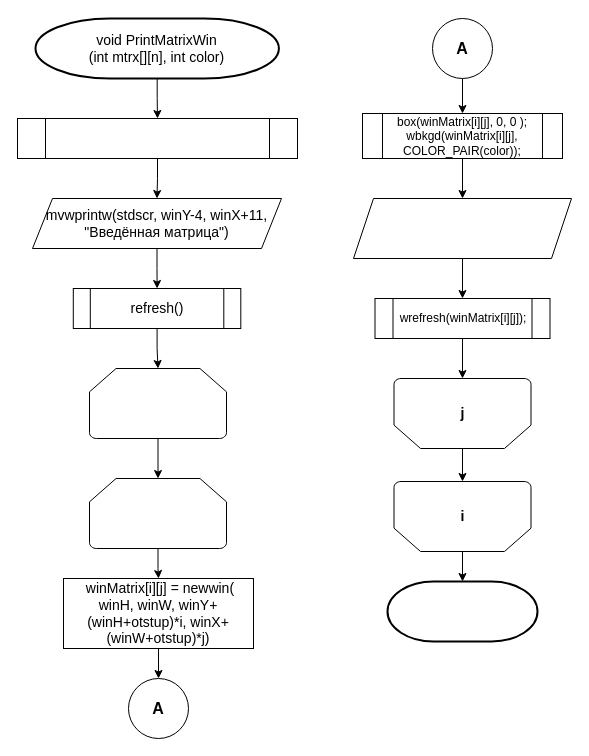
Image size: 589x756. Some labels were removed from this diagram. Each missing label, with the box of its shape:
ConfStdSrc(1); wattron(stdscr, COLOR_PAIR(2));: (16, 118, 298, 158)
i = 0; i < n; i++: (88, 368, 226, 438)
j = 0; j < n; j++: (88, 478, 226, 548)
mvwprintw(winMatrix[i][j], 1, 1, "%-5d", mtrx[i][j]);: (352, 198, 572, 258)
Кінець функції: (386, 580, 538, 642)
